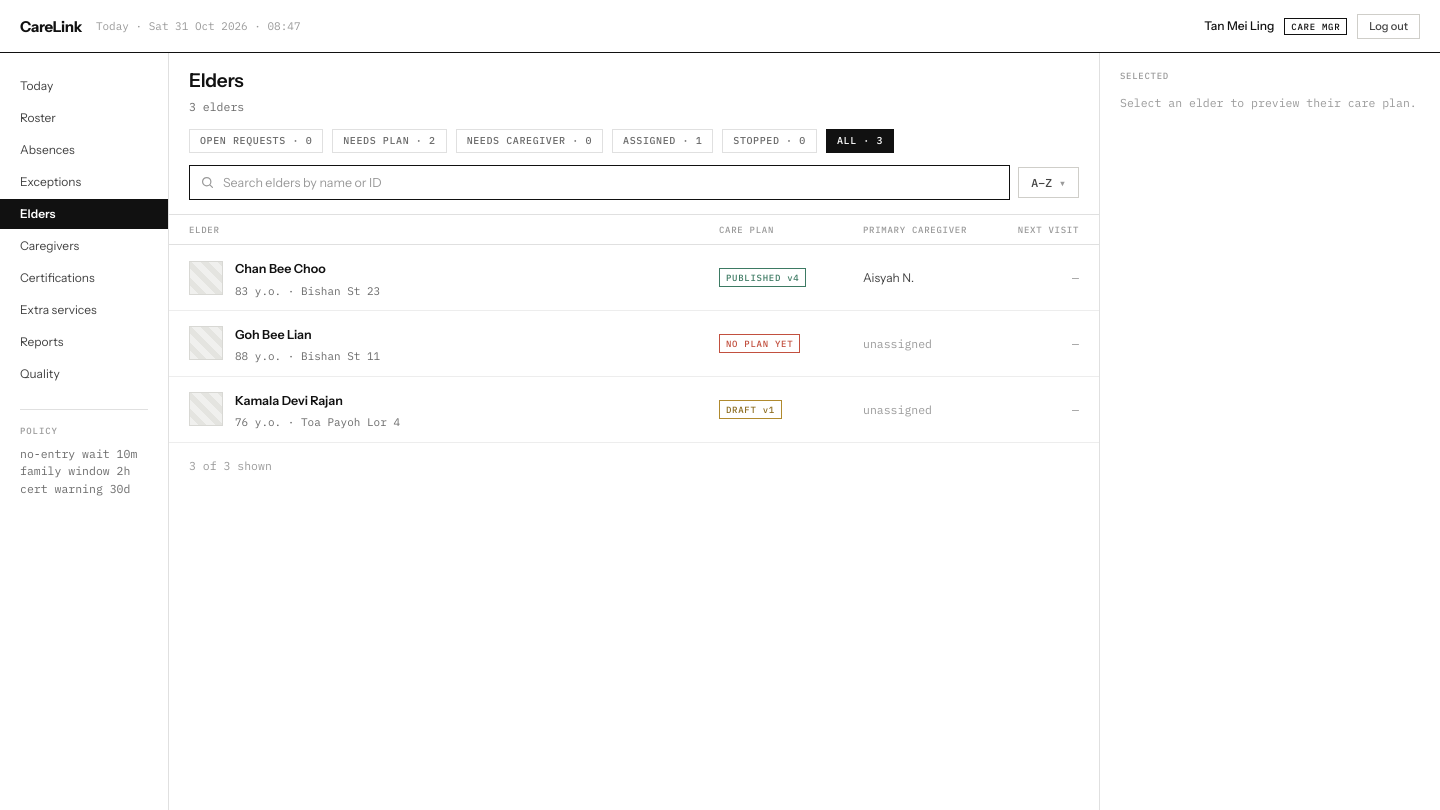
Test: removes the primary caregiver through the API
Click the option "Chan Bee Choo" at (206, 278), box [169, 245, 1099, 311]
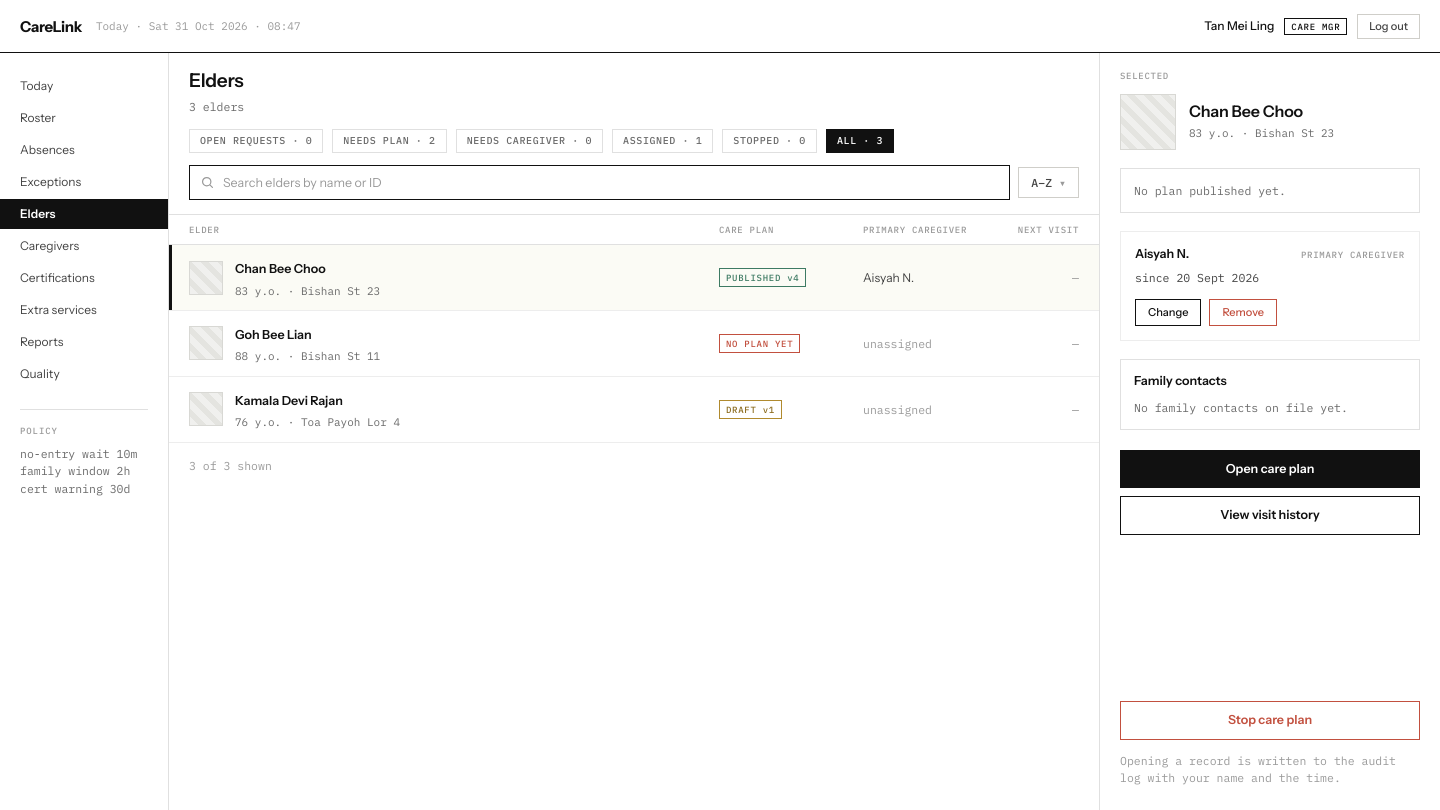
Expected: the text "since 20 Sept 2026" is shown, [1135, 270, 1259, 285]
Click the button "Remove" at (1243, 312), box [1209, 298, 1277, 326]
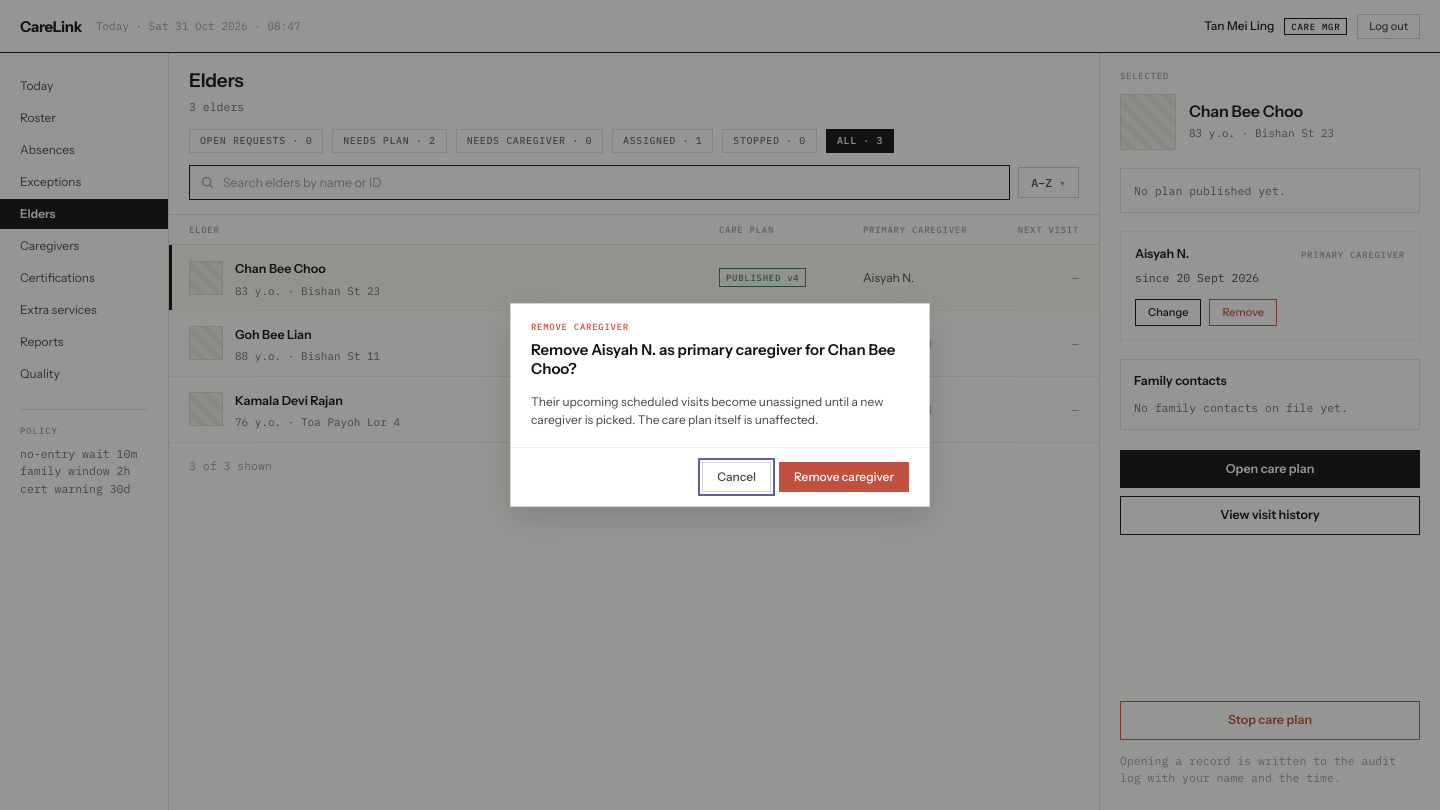
Click the button "Remove caregiver" at (844, 477), box [779, 462, 909, 492]
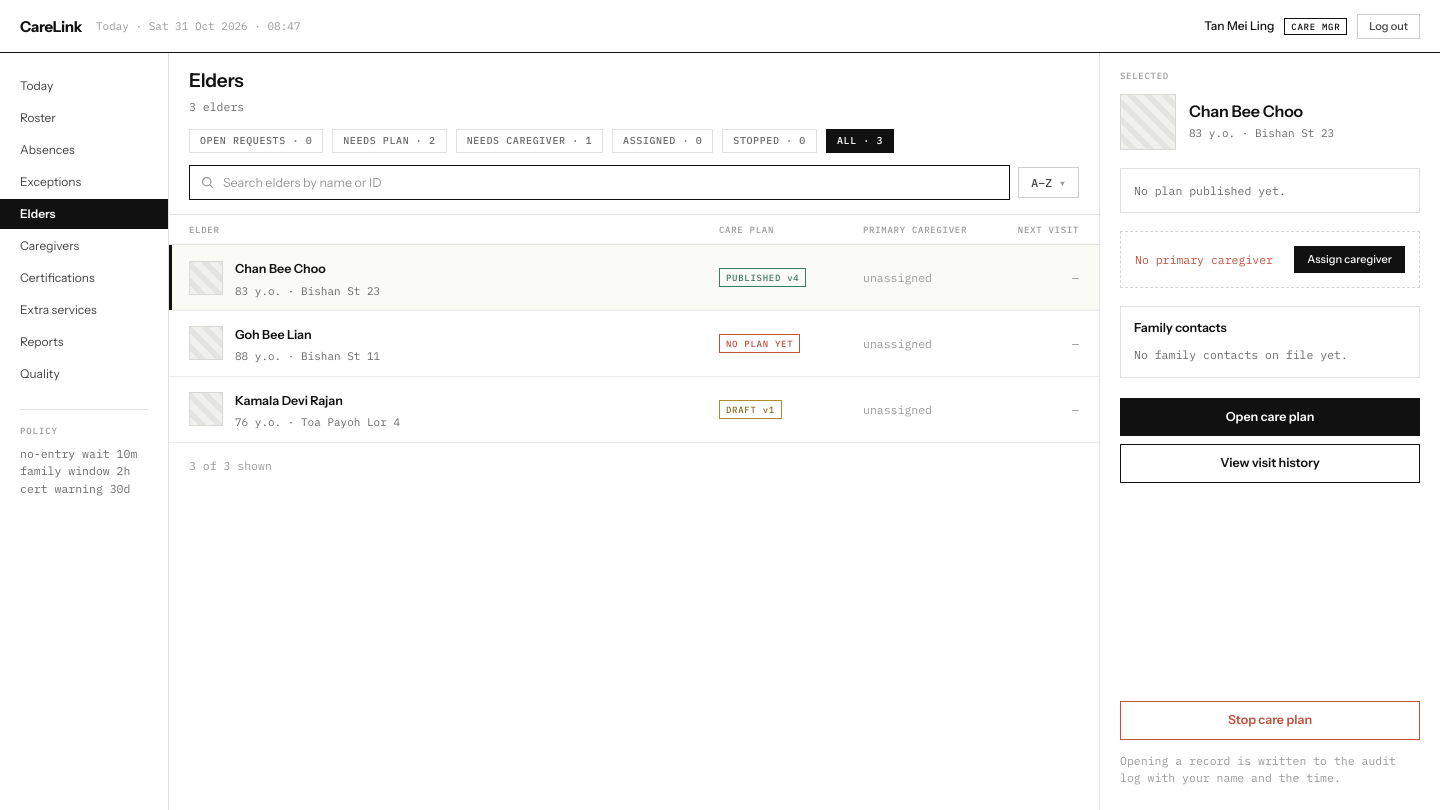
Expected: the button "Assign caregiver" is shown, [1294, 246, 1405, 273]
